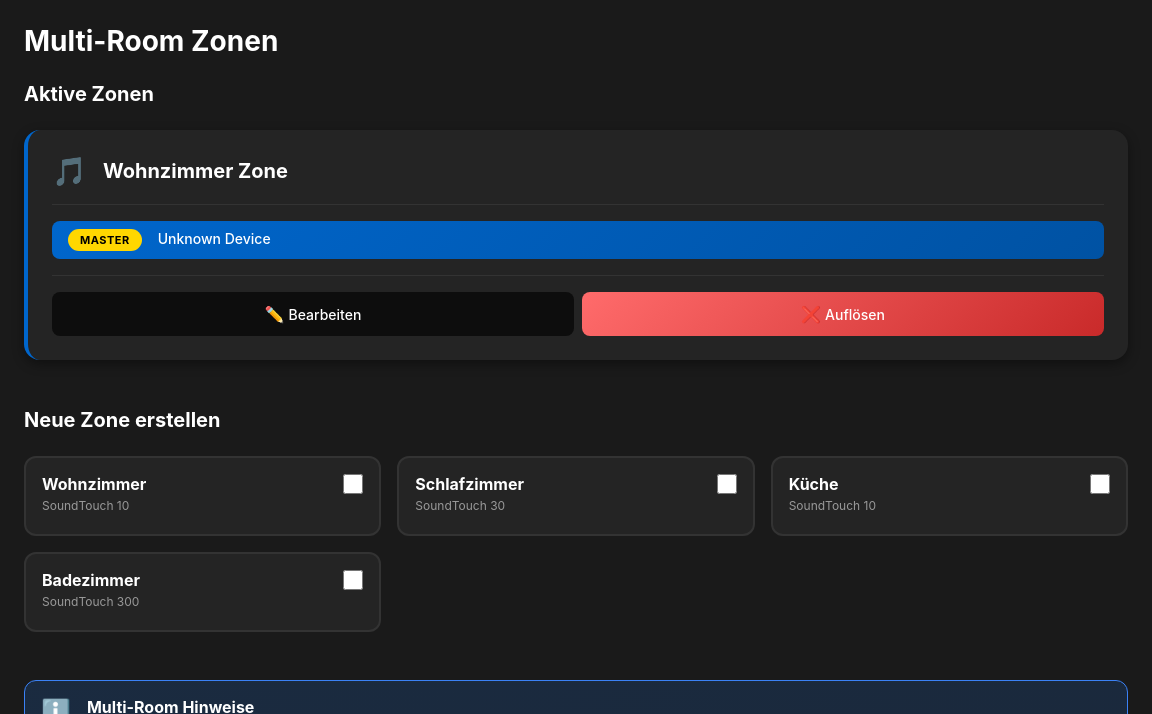
Test: MultiRoom - Zone Creation › should allow selecting multiple devices
Select first device
Click the checkbox labelled "Wohnzimmer SoundTouch 10": [353, 484] box [343,474,363,494]
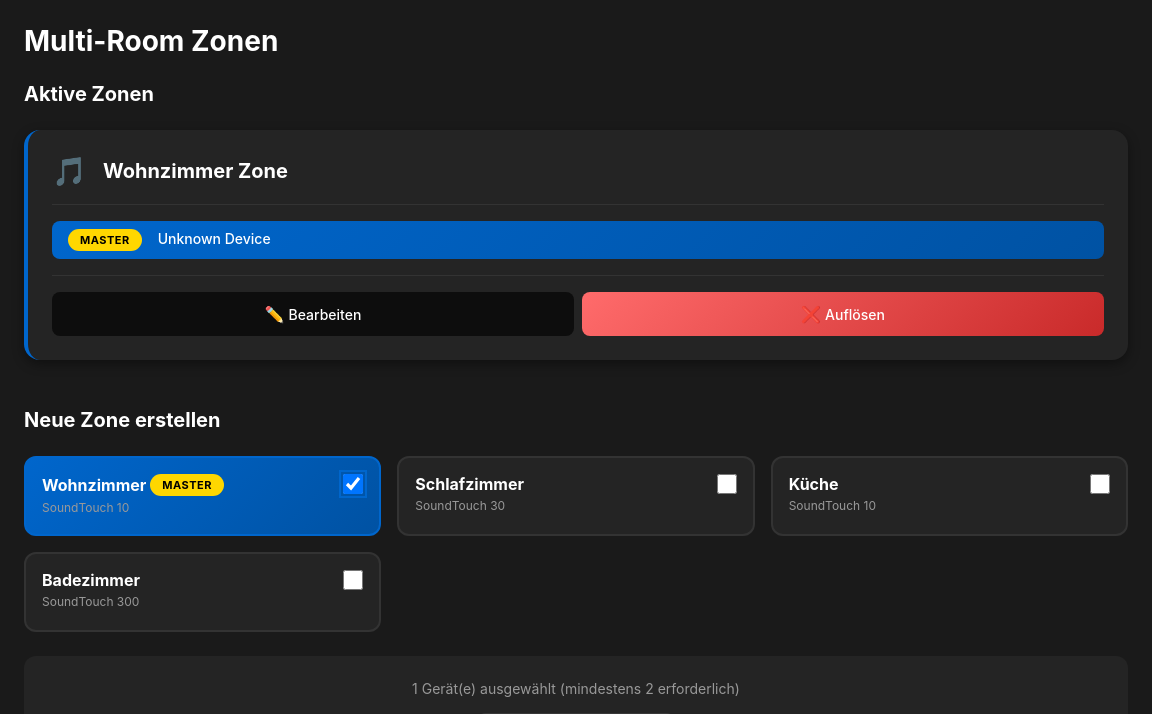
Expected: the checkbox labelled "Wohnzimmer Master SoundTouch 10" is checked, [343,474,363,494]
Expected: the text "1 Gerät(e) ausgewählt (mindestens 2 erforderlich)" is shown, [412,680,740,697]
Select second device
Click the checkbox labelled "Schlafzimmer SoundTouch 30": [727, 484] box [717,474,737,494]
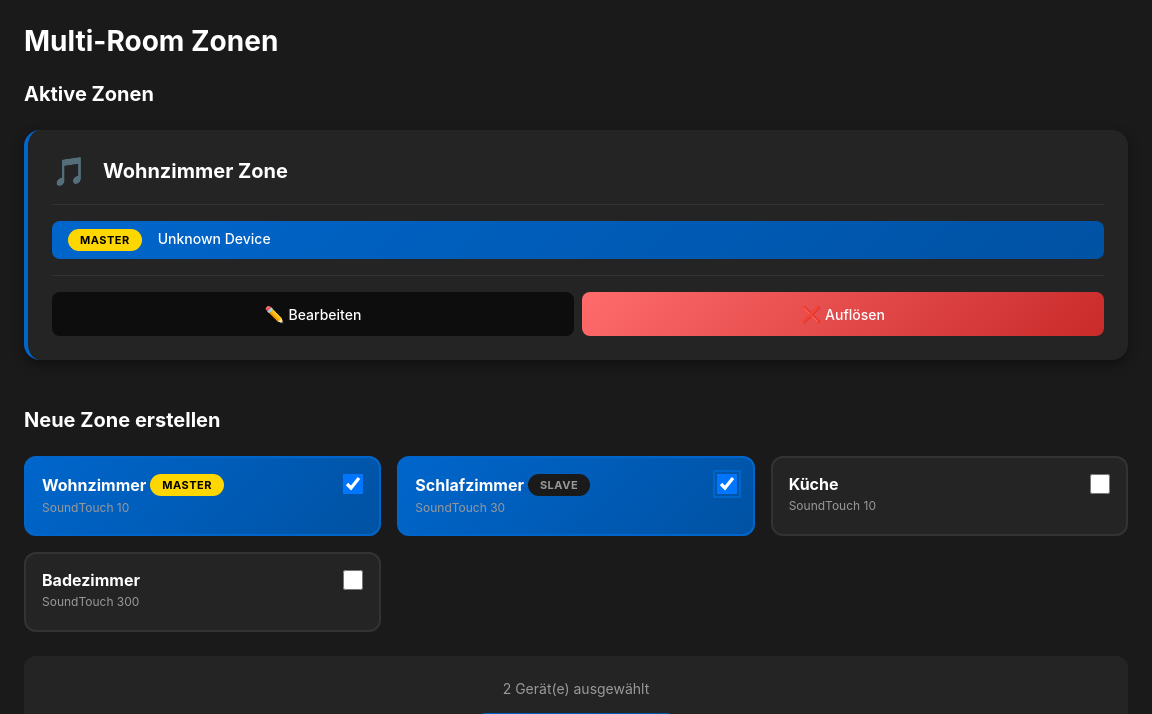
Expected: the checkbox labelled "Schlafzimmer Slave SoundTouch 30" is checked, [717,474,737,494]
Expected: the text "2 Gerät(e) ausgewählt" is shown, [503,680,649,697]
